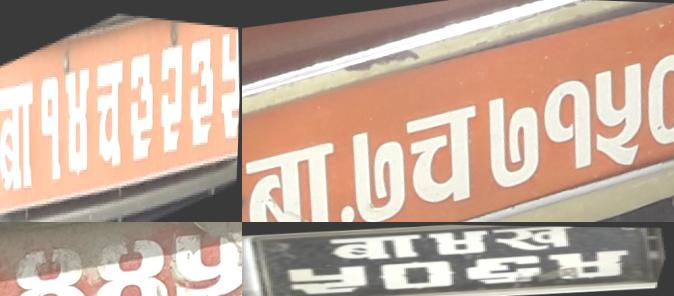0: (634, 42, 674, 152), (366, 256, 473, 294)
1: (531, 66, 612, 183), (35, 58, 69, 199)
2: (153, 25, 190, 160)
3: (182, 18, 220, 156), (124, 30, 160, 172)
4: (81, 222, 186, 296), (0, 227, 104, 296), (57, 44, 98, 190), (536, 246, 650, 284), (417, 226, 506, 258)
5: (582, 56, 664, 174), (158, 222, 242, 296), (272, 261, 388, 296), (212, 20, 242, 148)
6: (451, 250, 562, 290)
7: (477, 77, 559, 194), (342, 119, 424, 222)
ba: (242, 135, 358, 222), (0, 64, 42, 210), (315, 229, 438, 266)
cha: (396, 100, 497, 215), (90, 37, 132, 182)
kha: (482, 225, 591, 253)
